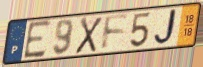5: (129, 11, 152, 48)
9: (52, 18, 74, 57)
E: (22, 18, 53, 62)
F: (100, 14, 130, 53)
J: (153, 7, 181, 47)
X: (74, 16, 104, 55)
